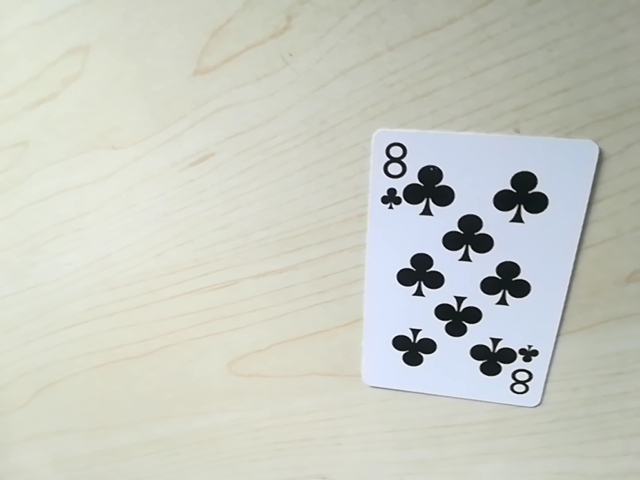mh 8: (373, 136, 405, 217), (505, 343, 546, 401)
